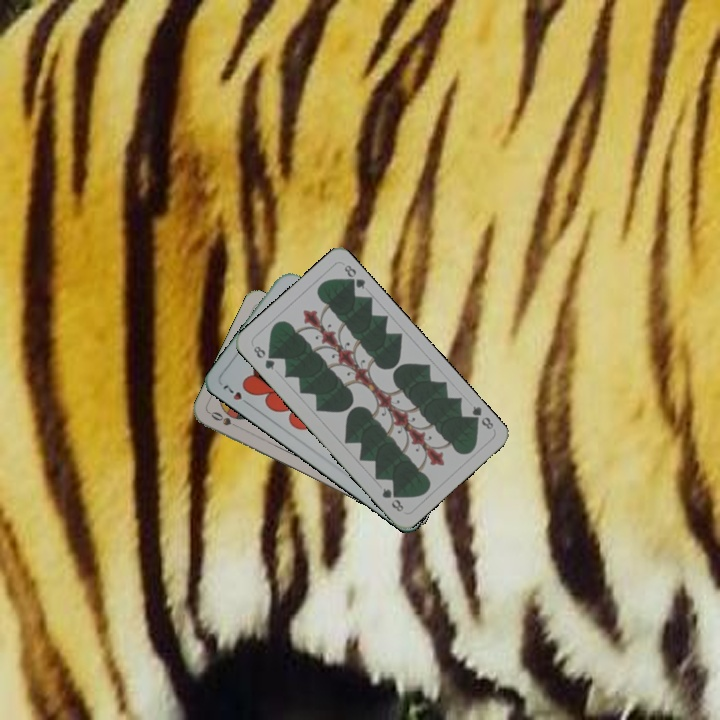G8: (465, 402, 496, 432), (249, 341, 278, 373)
H7: (218, 379, 253, 409)
SO: (205, 407, 244, 432)
